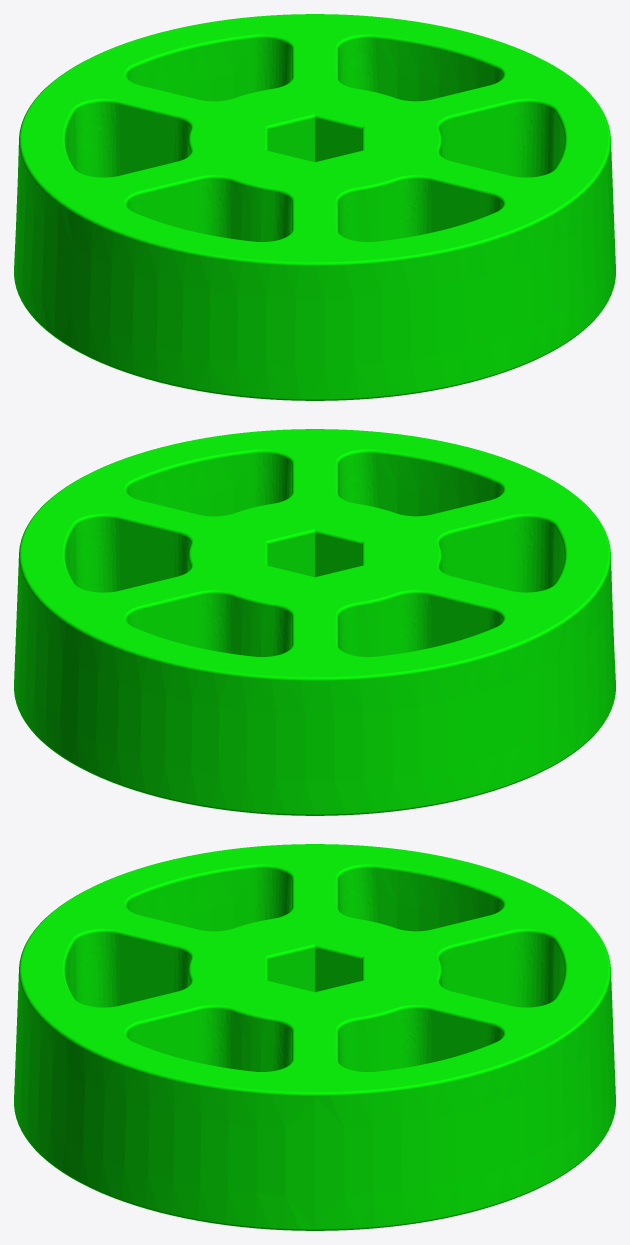
The model's file is model_web.glb.
The picture shows the model from 3 angles, top to bottom: view 1: azimuth 30°, elevation 25°; view 2: azimuth 150°, elevation 25°; view 3: azimuth 270°, elevation 25°; orthographic projection.
Visible parts, largest first — view 1: Node1; view 2: Node1; view 3: Node1.
Boxes of the visible parts, x1,y1,x2,y2 form: Node1: (14,14,615,400); Node1: (14,429,615,815); Node1: (14,844,615,1230).
Bounding box in the file's own units: 50.78 × 12.7 × 50.77.
